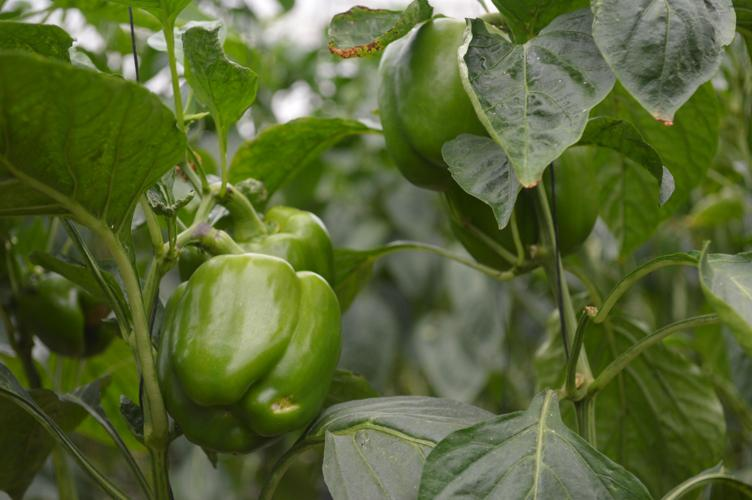BellPepper: (166, 255, 338, 435), (444, 137, 606, 271), (374, 17, 484, 184), (195, 199, 332, 282), (20, 272, 116, 358)
